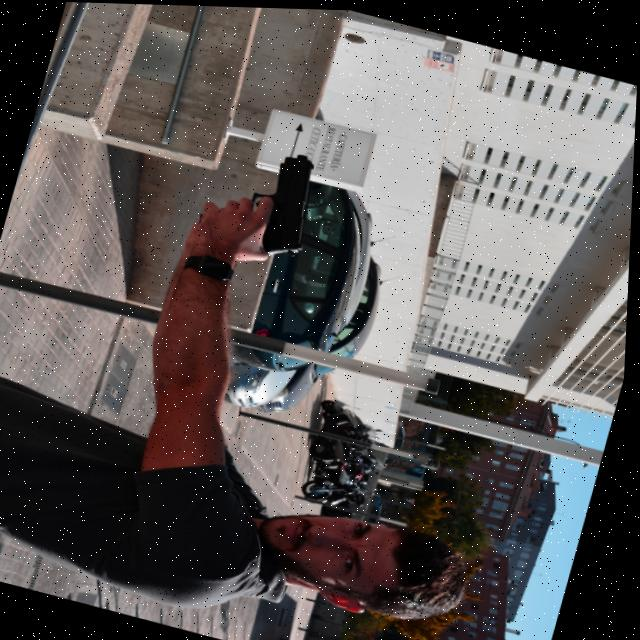pistol: (238, 141, 329, 262)
